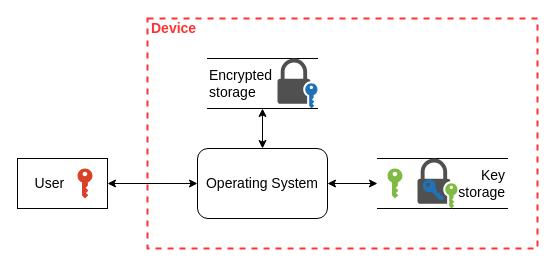
Some shapes in this 556 by 266 pixel diagram are drawn without their labels. The shapes that lost their labels are listed below. From the top down, each one's centre as x and y in pixels, then its label:
At point 84,183: "Private".
At point 394,183: "Public".
